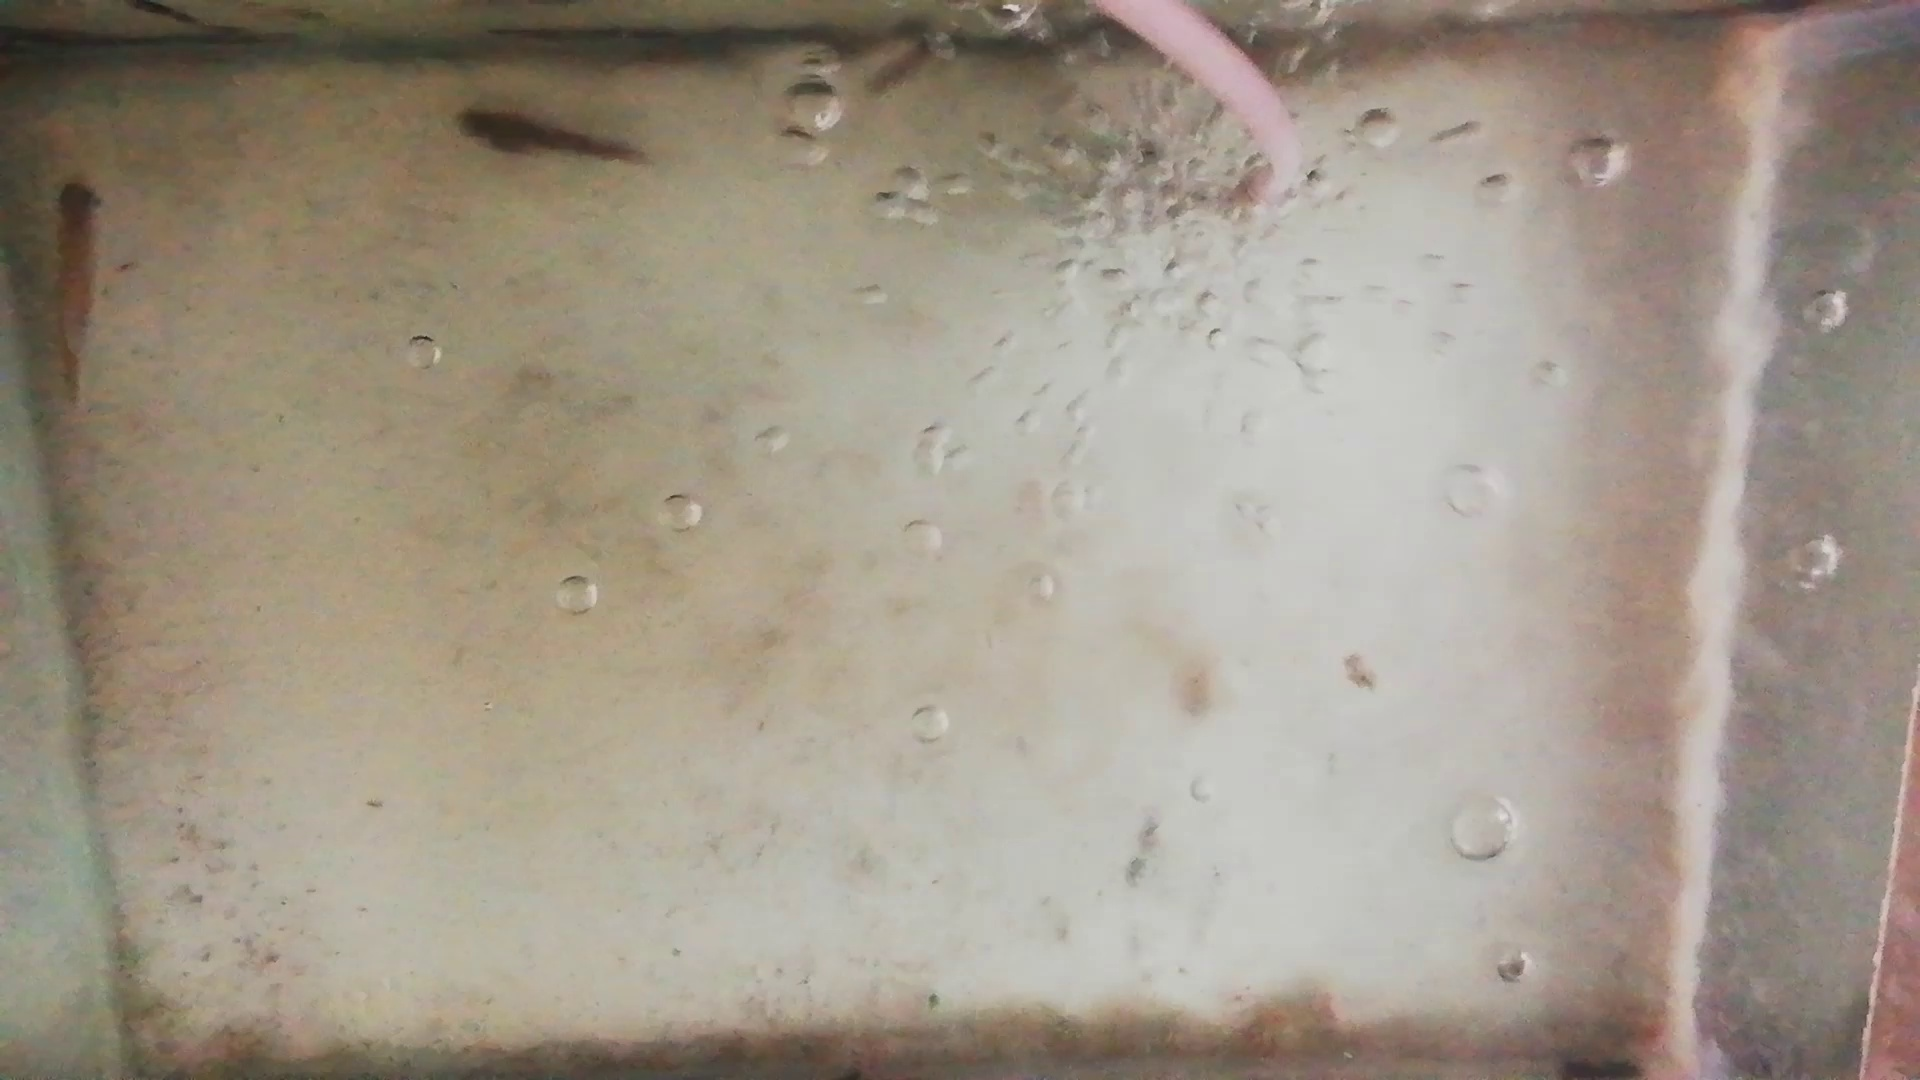fish: (50, 175, 107, 401), (446, 104, 644, 164)
